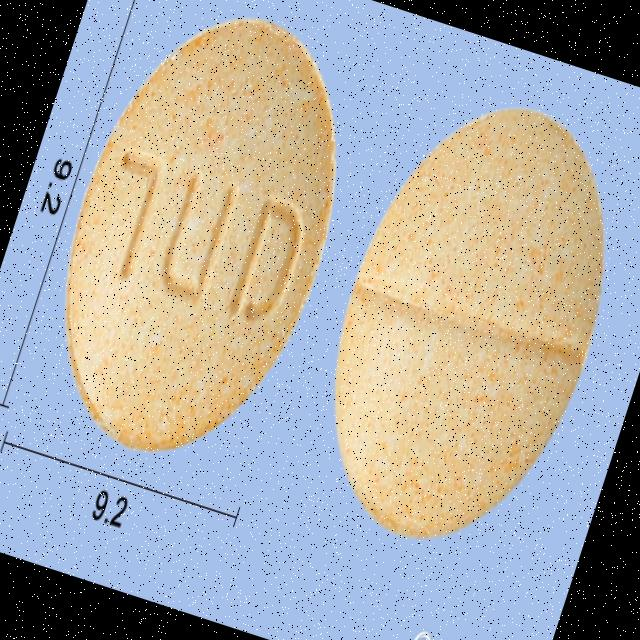Doxymedi: (14, 0, 388, 489), (282, 75, 640, 574)
